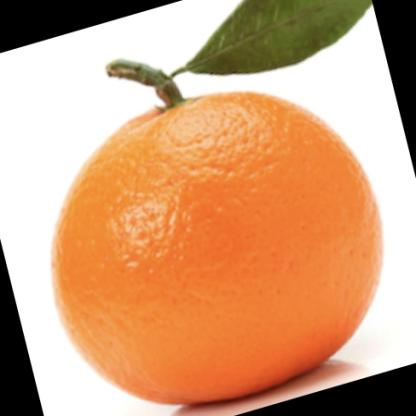fresh: (53, 61, 384, 408)
